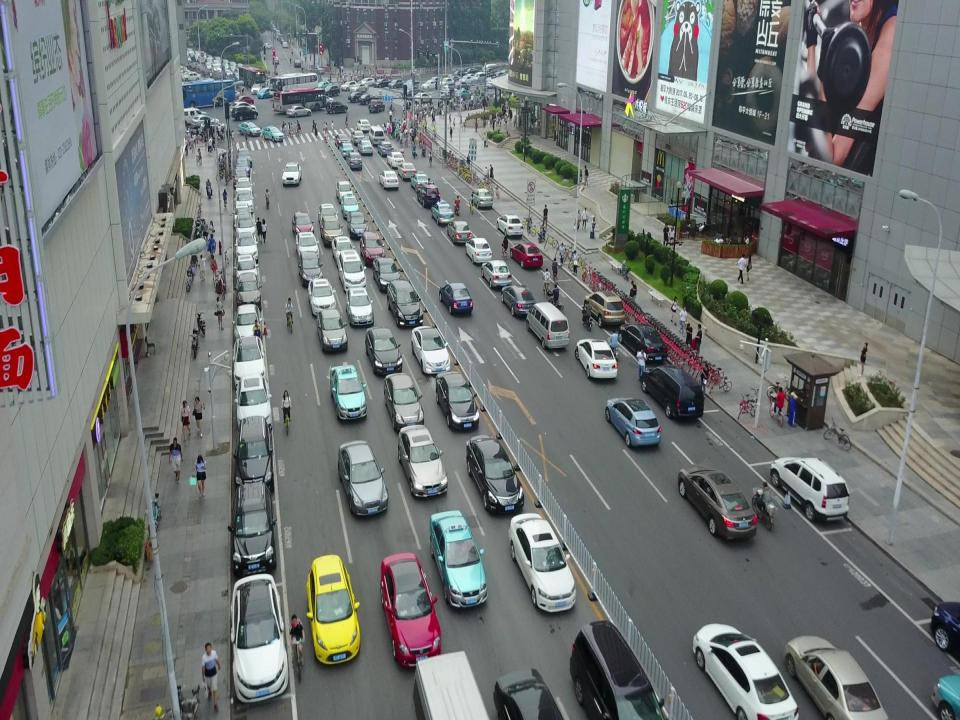bus: (178, 79, 236, 110), (272, 88, 326, 112), (268, 72, 318, 96), (239, 65, 265, 88)
car: (692, 622, 797, 720), (783, 635, 890, 720), (230, 575, 288, 702), (380, 551, 442, 666), (509, 512, 576, 614), (678, 465, 758, 541), (306, 554, 360, 664), (428, 509, 488, 607), (770, 457, 850, 521), (466, 434, 526, 513), (228, 482, 278, 576), (492, 668, 565, 720), (338, 440, 388, 514), (398, 425, 446, 500), (235, 415, 275, 490), (606, 397, 660, 448), (436, 371, 480, 431), (329, 364, 369, 423), (384, 373, 425, 430), (235, 374, 272, 430), (618, 322, 666, 363), (412, 325, 451, 374), (388, 279, 426, 328), (575, 338, 617, 382), (366, 326, 402, 372), (931, 601, 960, 658), (232, 337, 266, 384), (316, 308, 349, 352), (586, 292, 625, 327), (345, 284, 375, 326), (931, 674, 958, 720), (500, 284, 535, 318), (439, 283, 473, 316), (373, 255, 402, 293), (234, 304, 262, 342), (308, 276, 336, 313), (480, 258, 512, 289), (236, 273, 262, 308), (510, 243, 543, 270), (329, 233, 355, 267), (361, 231, 385, 267), (298, 249, 324, 281), (234, 231, 258, 263), (465, 237, 493, 264), (319, 214, 343, 245), (295, 231, 320, 260), (234, 254, 258, 284), (496, 214, 523, 239), (417, 183, 442, 210), (347, 210, 369, 240), (292, 209, 314, 238), (431, 202, 455, 226), (282, 160, 303, 187), (340, 193, 360, 220), (234, 214, 257, 237), (448, 221, 470, 244), (234, 190, 256, 213), (319, 202, 340, 226), (232, 204, 253, 227), (234, 178, 253, 203), (472, 188, 493, 209), (335, 180, 353, 204), (232, 105, 259, 120), (379, 171, 399, 191), (397, 161, 417, 180), (238, 122, 261, 138), (230, 101, 256, 115), (262, 126, 284, 142), (410, 173, 430, 190), (236, 147, 252, 168), (200, 120, 228, 132), (191, 115, 219, 127), (346, 153, 364, 171), (234, 167, 250, 187), (235, 158, 251, 178), (286, 106, 312, 118), (388, 152, 404, 169), (326, 101, 348, 113), (232, 94, 254, 106), (378, 141, 393, 158), (368, 100, 386, 114), (359, 138, 373, 155), (402, 89, 424, 99), (321, 85, 341, 96), (402, 77, 420, 89), (359, 94, 377, 106), (350, 130, 364, 145), (340, 143, 354, 158), (336, 133, 350, 148), (629, 279, 637, 304), (347, 92, 365, 103), (258, 87, 274, 99), (356, 118, 370, 131), (454, 88, 472, 98), (414, 94, 432, 104), (372, 79, 392, 88), (358, 77, 376, 87), (340, 81, 358, 91), (316, 94, 334, 104), (388, 79, 406, 88), (351, 84, 369, 93), (183, 72, 202, 80), (439, 77, 455, 86), (422, 80, 436, 90), (441, 85, 458, 93), (455, 82, 470, 91), (309, 65, 324, 74), (487, 78, 499, 89), (230, 72, 241, 83), (448, 70, 464, 77), (446, 76, 460, 84), (180, 72, 194, 80), (212, 64, 222, 75), (460, 75, 472, 84), (428, 76, 440, 85), (407, 82, 422, 89), (315, 82, 332, 88), (251, 83, 261, 93), (220, 57, 230, 67), (464, 67, 476, 75), (465, 72, 475, 81), (222, 70, 232, 78), (212, 55, 222, 63), (204, 61, 212, 70), (212, 60, 221, 68), (228, 61, 238, 68), (293, 59, 301, 67), (236, 63, 244, 71), (192, 54, 200, 62), (234, 68, 241, 77), (205, 54, 215, 60), (272, 57, 280, 64), (263, 42, 271, 49), (228, 65, 236, 72), (183, 55, 191, 62), (282, 41, 288, 49), (195, 49, 199, 55)
van: (570, 622, 666, 720), (411, 652, 491, 720), (641, 366, 706, 419), (526, 303, 570, 350), (339, 248, 367, 292), (180, 108, 206, 125), (368, 125, 385, 146)
